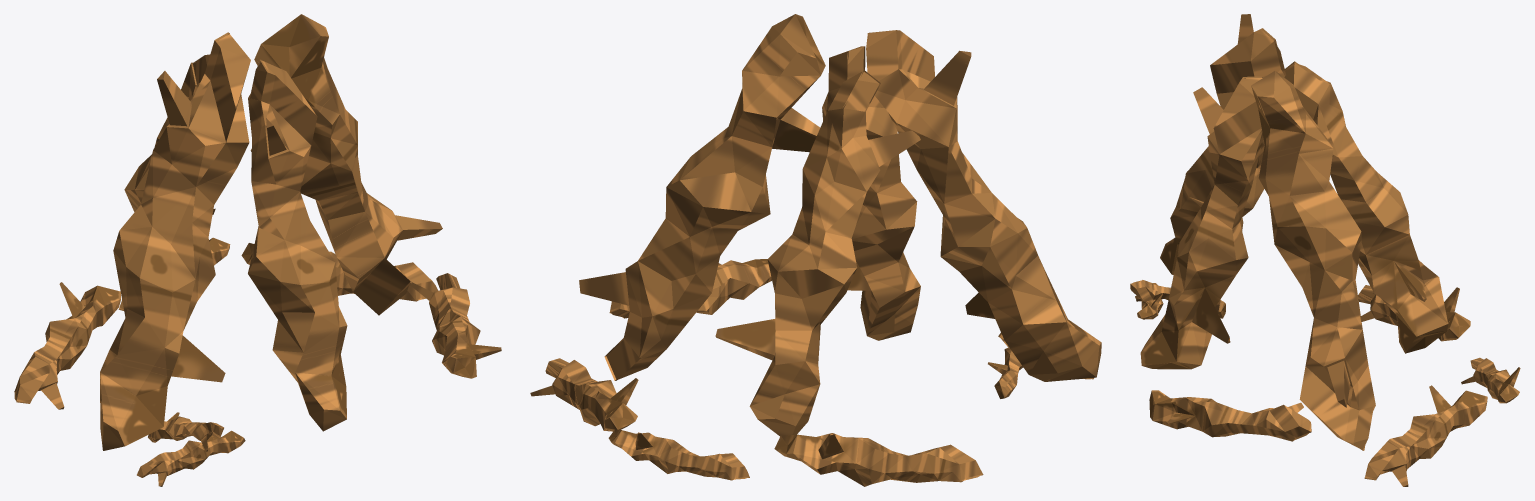
File: Sticks.fbx
3 renders of one model, left to right at view 1: azimuth 30°, elevation 25°; view 2: azimuth 150°, elevation 25°; view 3: azimuth 270°, elevation 25°, orthographic. The views are drawn at different scales.
Visible parts, largest first — view 1: Sticks; view 2: Sticks; view 3: Sticks.
Boxes of the visible parts, x1,y1,x2,y2 form: Sticks: (14, 14, 501, 486); Sticks: (530, 14, 1101, 486); Sticks: (1130, 14, 1520, 486).
Size of the model in its own units: 80 by 65.76 by 68.17.
Materials: 1 (1 with a texture image).
